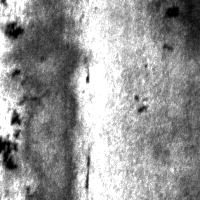patches: (20, 1, 80, 198), (79, 0, 141, 62), (149, 1, 199, 53), (1, 107, 24, 172), (2, 17, 23, 40), (162, 4, 182, 22)
